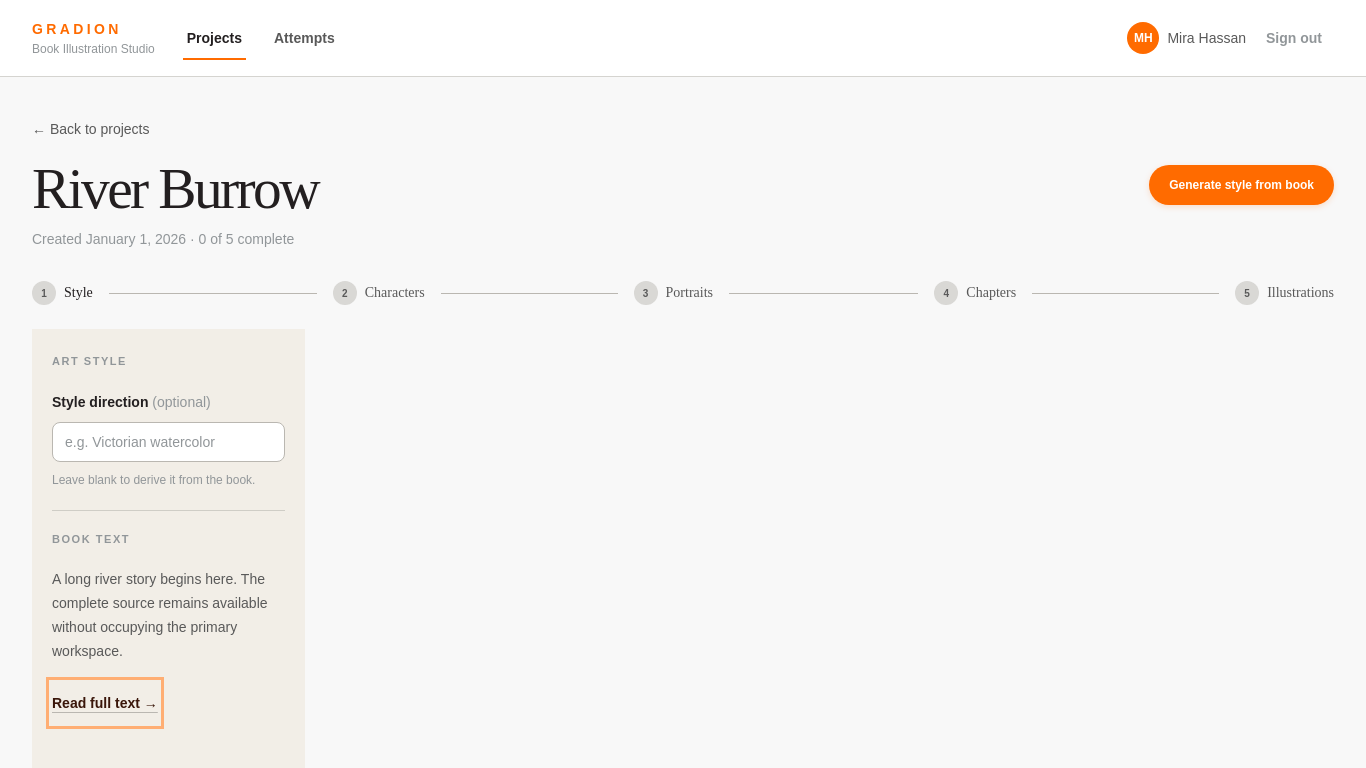
Test: foundation app shell › opens the full book text in a dialog and returns focus on Escape
The image size is (1366, 768).
Click the button "Read full text →" at {"x": 105, "y": 703}, box x1=52 y1=683 x2=158 y2=723
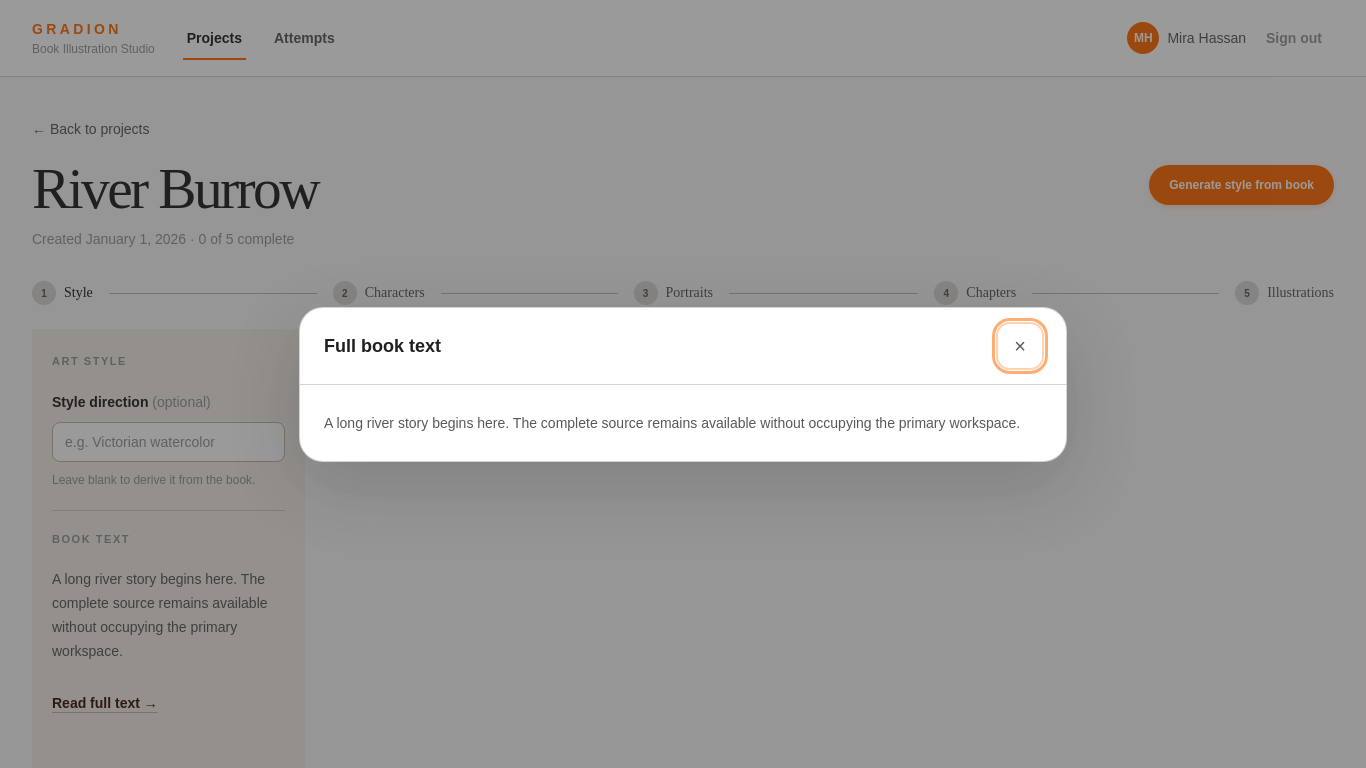
Check: the dialog "Full book text" shows "A long river story begins here. The complete source remains available without occupying the primary workspace.", box x1=324 y1=414 x2=1020 y2=430
Press Escape in the dialog "Full book text"
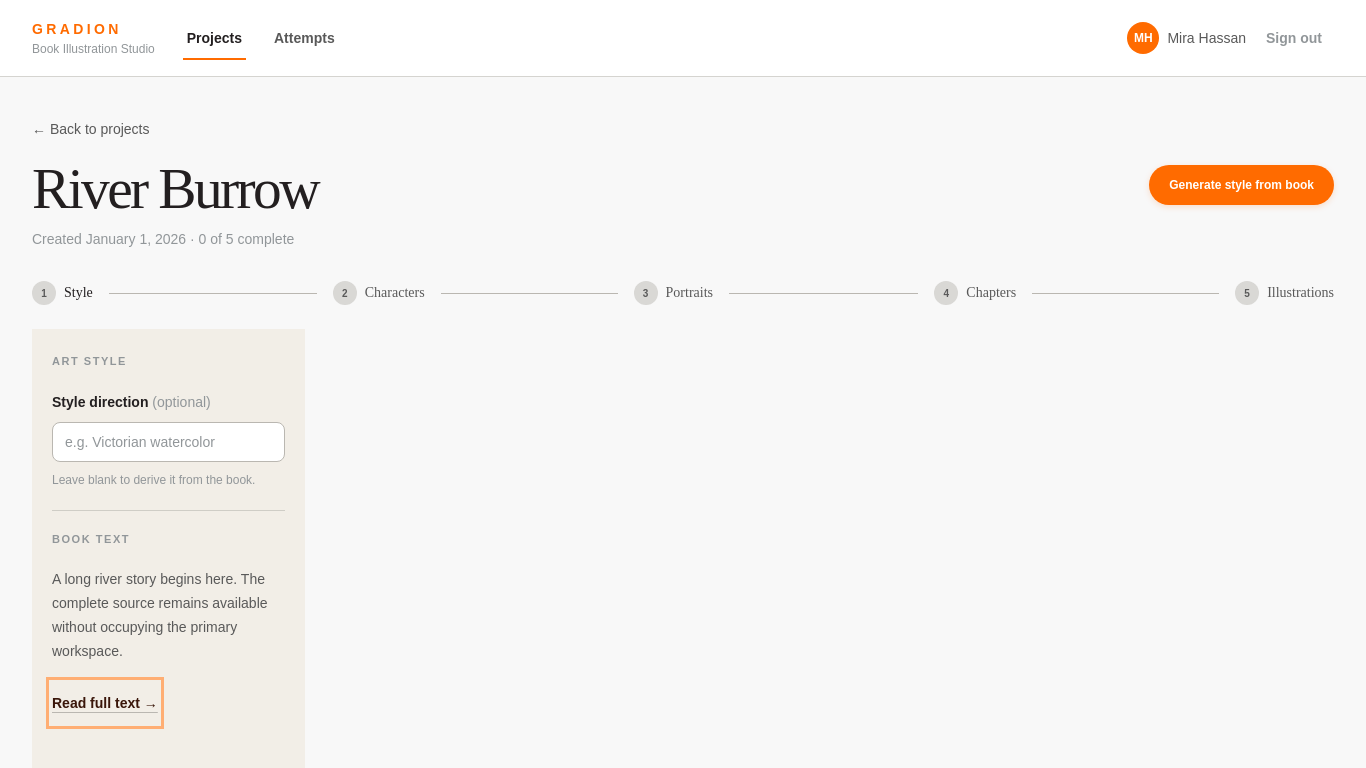
Check: the dialog is gone
